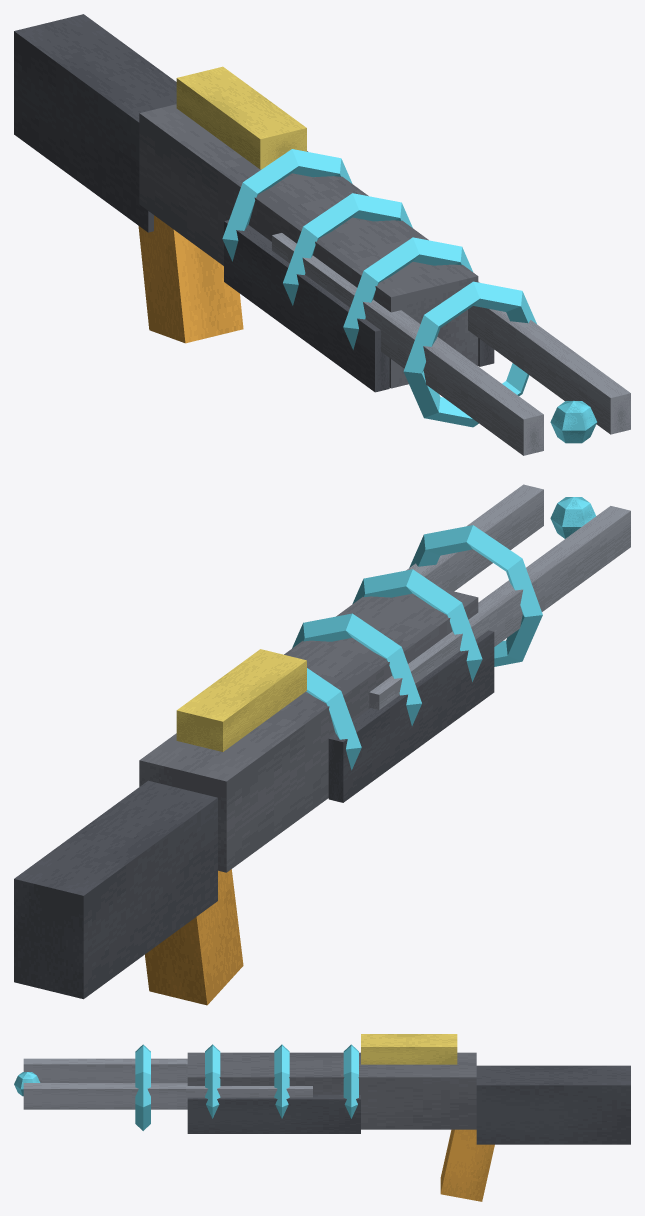
The model's file is weapon_railgun.glb.
3 views of the same model, one above another, from view 1: azimuth 30°, elevation 25°; view 2: azimuth 150°, elevation 25°; view 3: azimuth 270°, elevation 25° (orthographic). The views are drawn at different scales.
Parts seen in each view (by area): view 1: weapon_railgun; view 2: weapon_railgun; view 3: weapon_railgun.
Boxes of the visible parts, x1,y1,x2,y2 form: weapon_railgun: (14,14,630,455); weapon_railgun: (14,484,630,1005); weapon_railgun: (14,1034,630,1201).
Bounding box in the file's own units: 0.48 × 0.8769 × 3.2.
1 material, 1 textured.
